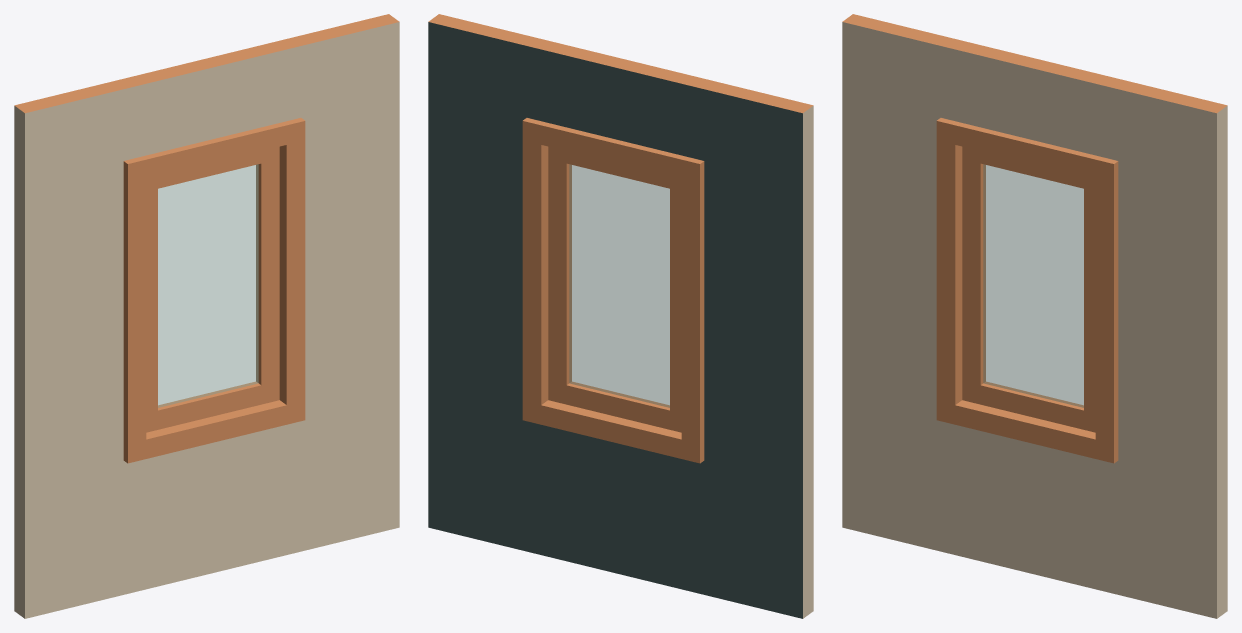
The model's file is wallWindow.glb.
3 views of the same model, side by side, from view 1: azimuth 30°, elevation 25°; view 2: azimuth 150°, elevation 25°; view 3: azimuth 330°, elevation 25° (orthographic).
Parts seen in each view (by area): view 1: wallWindow; view 2: wallWindow; view 3: wallWindow.
Part boxes in pixels (bbox=[...]): wallWindow: bbox=[14, 14, 399, 618]; wallWindow: bbox=[428, 14, 813, 618]; wallWindow: bbox=[842, 14, 1227, 618].
Bounding box in the file's own units: 2 × 2.58 × 0.1782.
